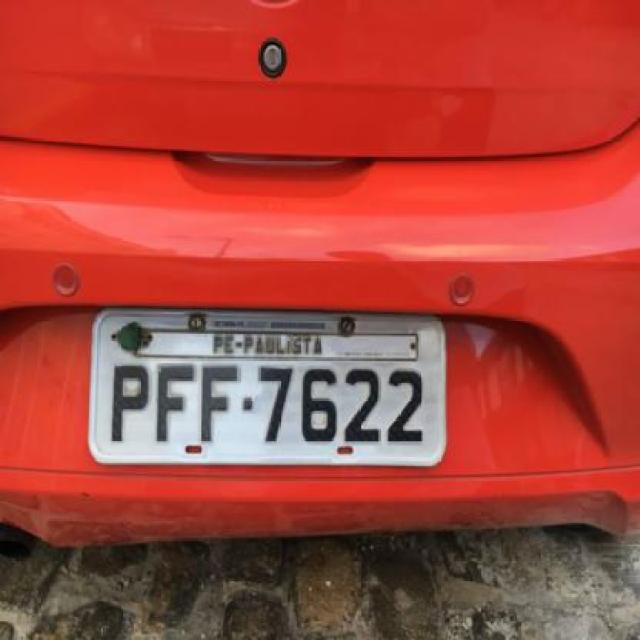old_plate: (82, 299, 456, 472)
